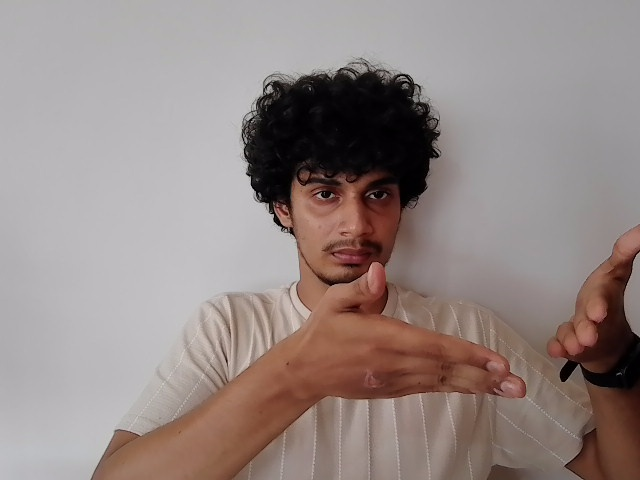here: (309, 225, 640, 397)
